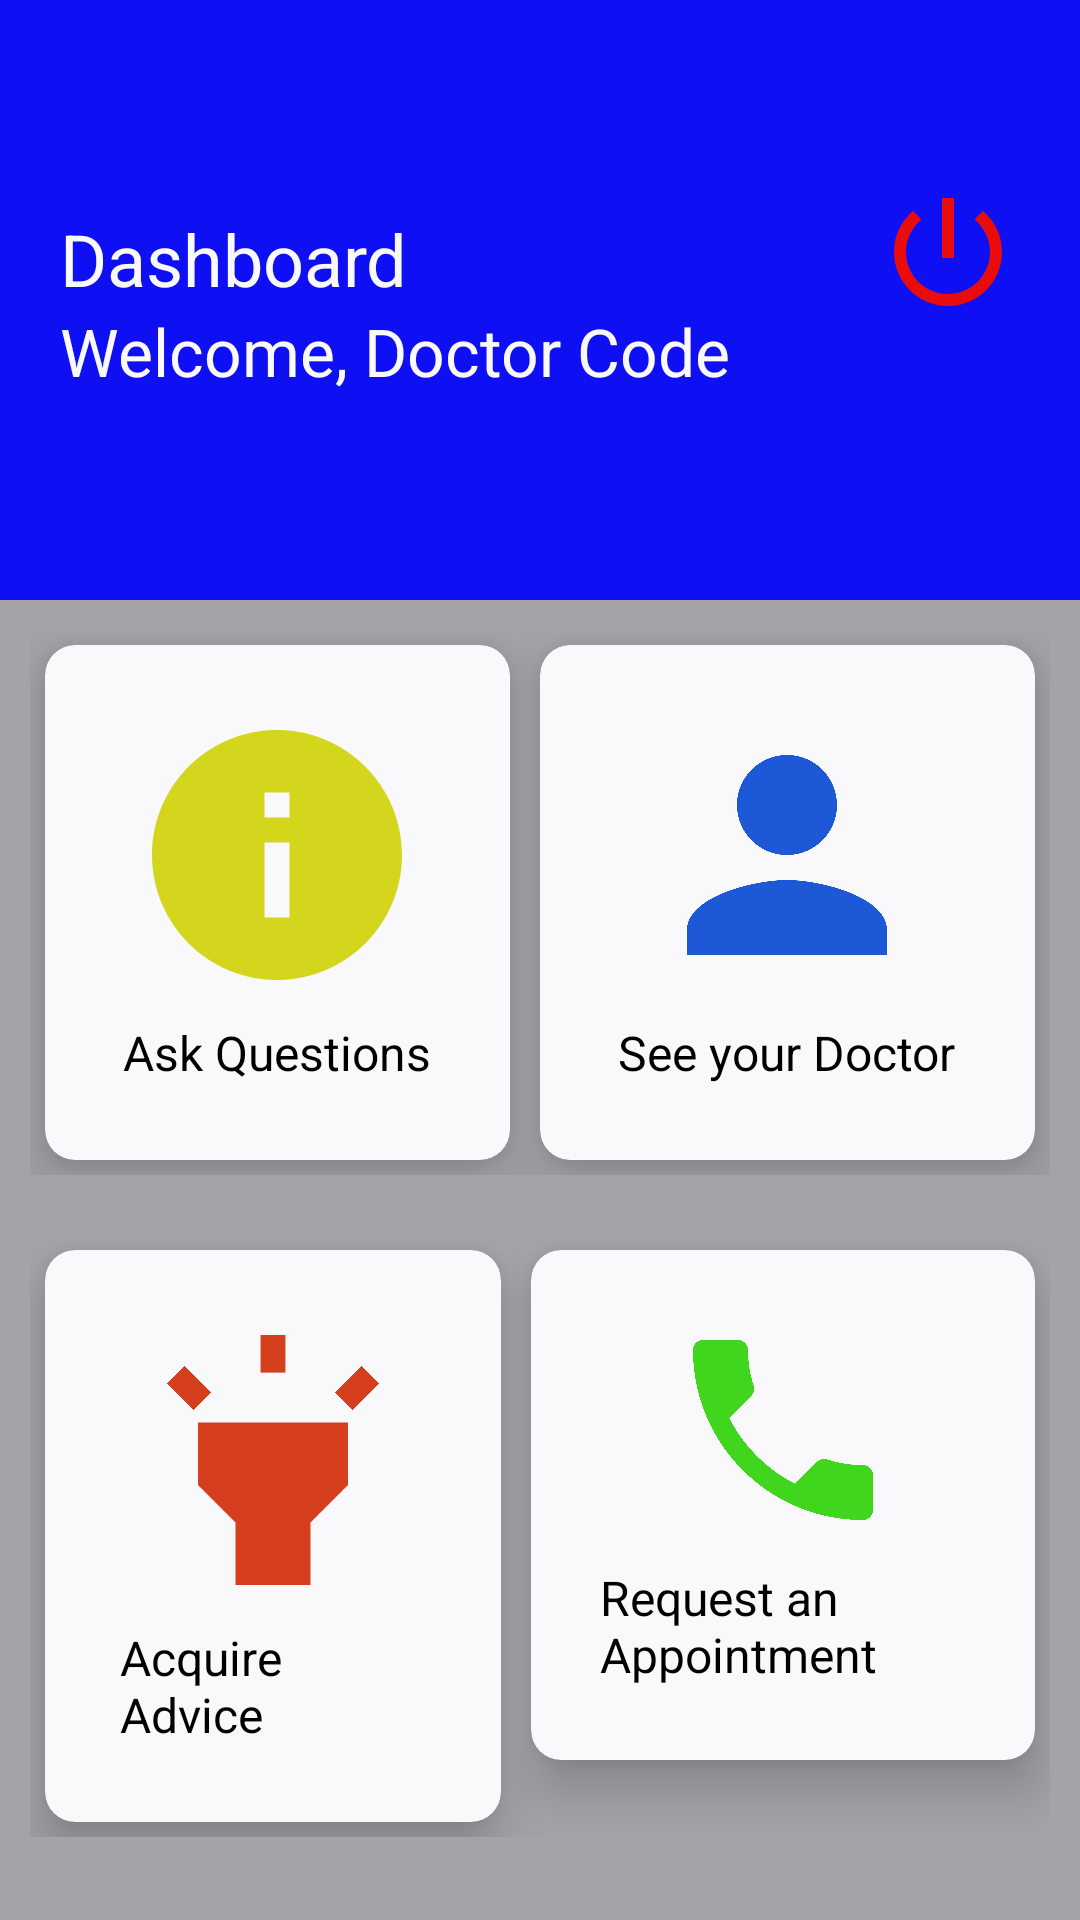

Locate icon controls on the screen. Image size 1080w x 1920h, boxes as (x1, y1, x2, y2).
highlight: (167, 1335, 379, 1585)
info: (152, 730, 402, 980)
person: (687, 755, 887, 955)
phone: (693, 1340, 873, 1520)
power settings: (894, 198, 1002, 306)
